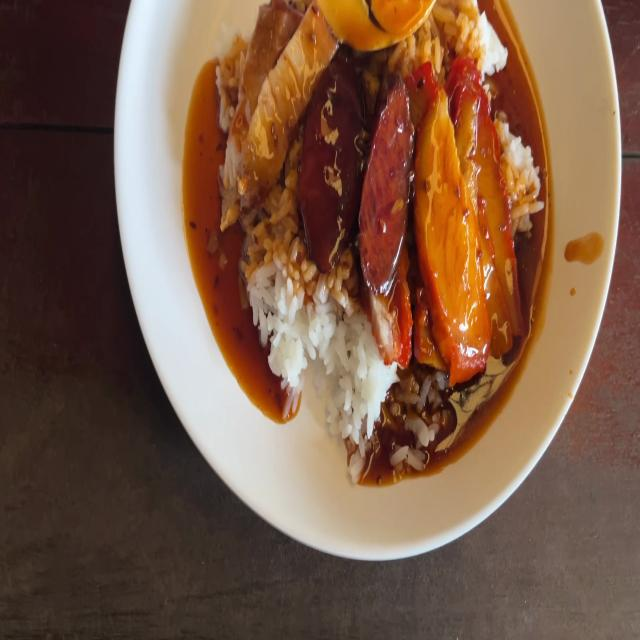01boiled_egg: (320, 0, 431, 46)
01chainese_sausage: (303, 56, 414, 276)
01crispy_pork: (220, 0, 323, 208)
01red_pork: (419, 76, 513, 352)
01red_pork_and_crispy_pork: (218, 0, 544, 446)
01rice: (237, 205, 315, 386), (325, 285, 375, 442)
